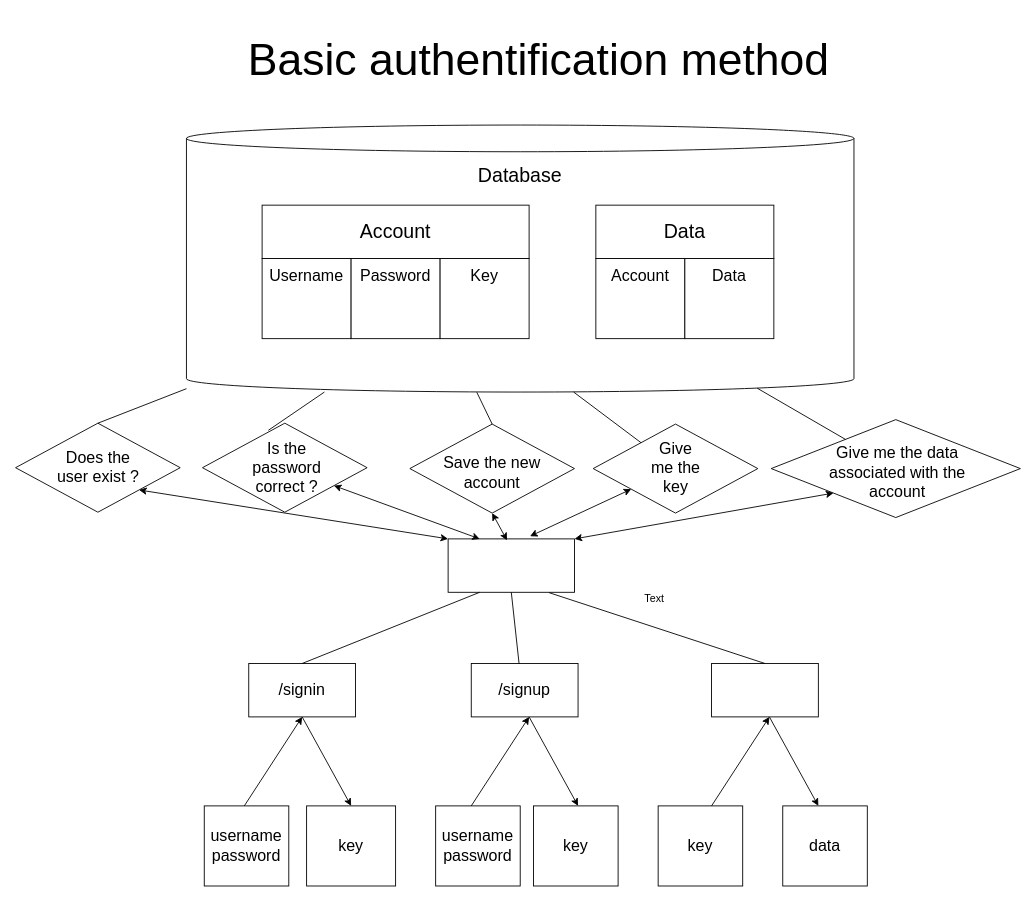
Image size: 1036x902. Some labels were removed from this diagram. The shapes that lost their labels are listed below. From the top down, each one's centre as x and y in pixels, then its label:
the point at 510,565: API
the point at 764,690: /getdata
